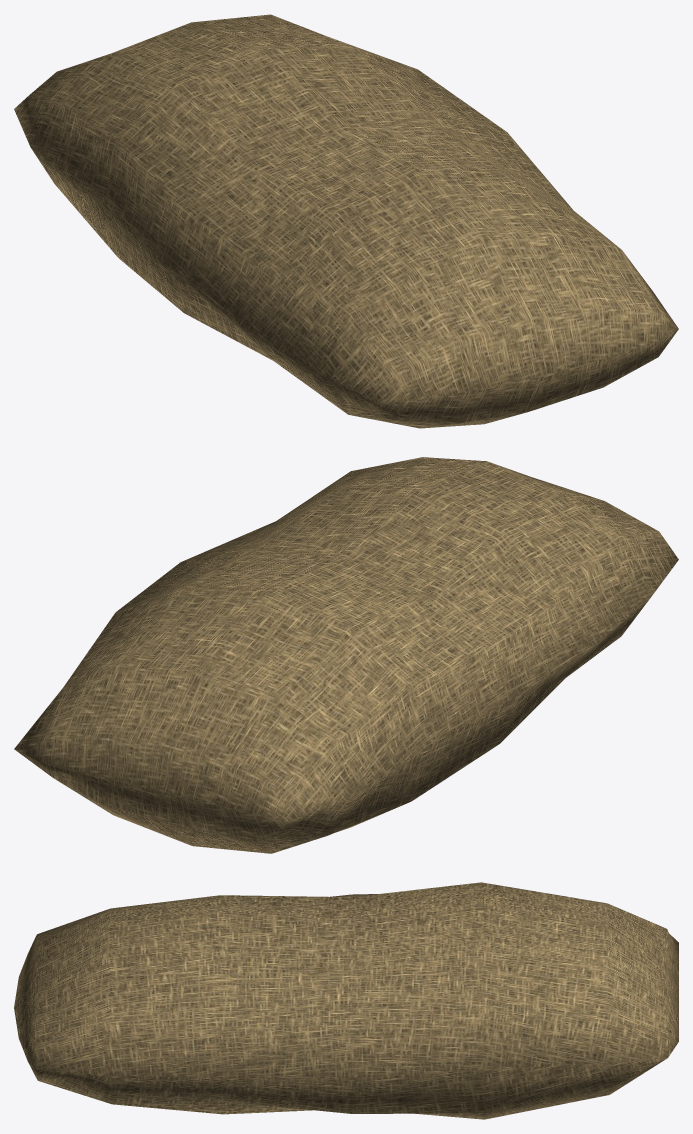
File: sack.fbx
The picture shows the model from 3 angles, top to bottom: view 1: azimuth 30°, elevation 25°; view 2: azimuth 150°, elevation 25°; view 3: azimuth 270°, elevation 25°; orthographic projection. The views are drawn at different scales.
Parts seen in each view (by area): view 1: sacks_001; view 2: sacks_001; view 3: sacks_001.
Boxes of the visible parts, <box> form: sacks_001: <box>14,14,678,428</box>; sacks_001: <box>14,457,678,853</box>; sacks_001: <box>14,882,678,1119</box>.
Bounding box in the file's own units: 4.41 × 2.68 × 8.35.
